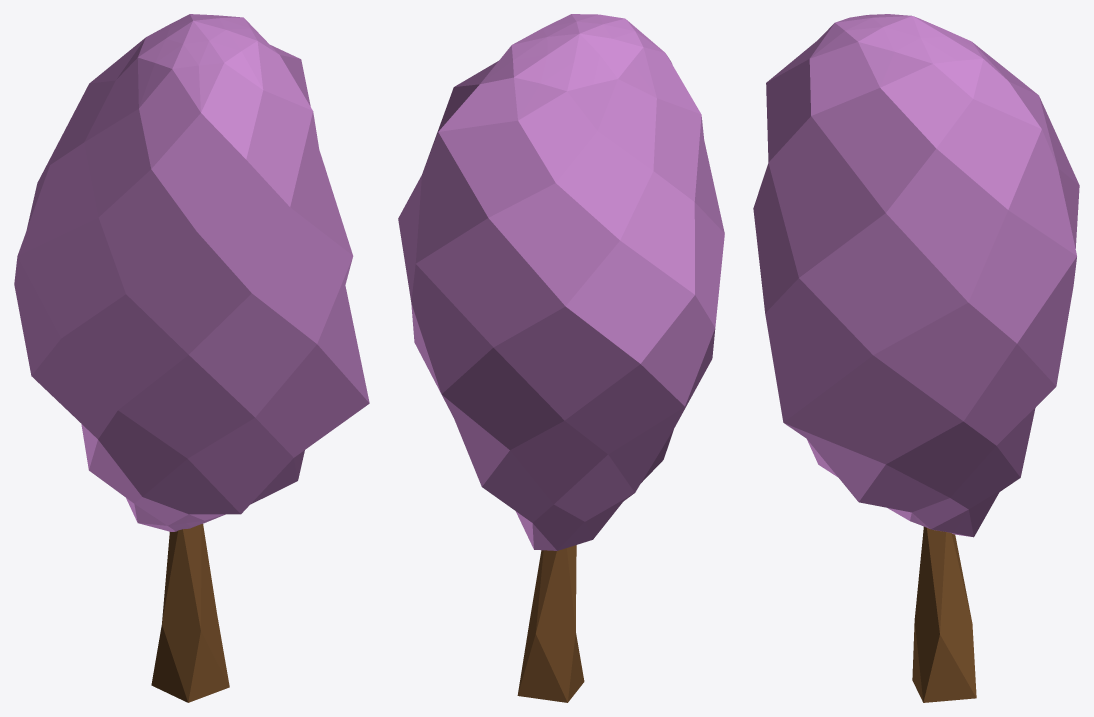
The model's file is Pink tree 3.fbx.
3 renders of one model, left to right at view 1: azimuth 30°, elevation 25°; view 2: azimuth 150°, elevation 25°; view 3: azimuth 270°, elevation 25°, orthographic. The views are drawn at different scales.
Visible parts, largest first — view 1: Cube.162; view 2: Cube.162; view 3: Cube.162.
Boxes of the visible parts, <box> form: Cube.162: <box>14,14,369,702</box>; Cube.162: <box>398,14,724,702</box>; Cube.162: <box>753,14,1079,702</box>.
Bounding box in the file's own units: 586 × 1226 × 544.
